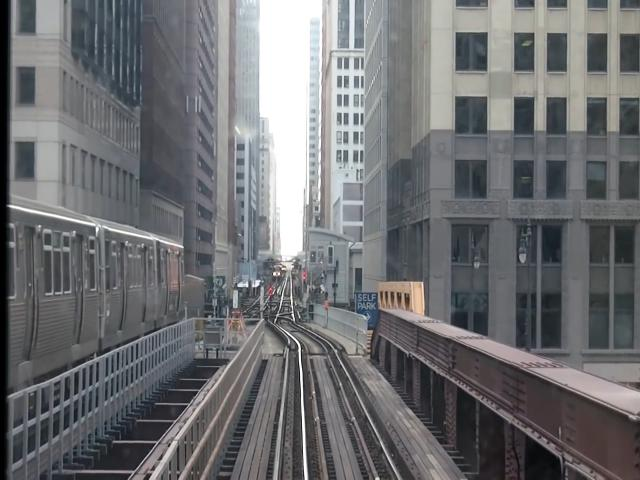signal light: (270, 286, 274, 314), (304, 271, 307, 288)
